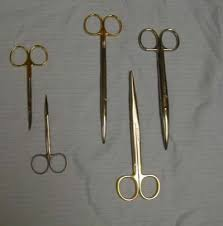fine scissors: (4, 38, 52, 130), (27, 94, 68, 177)
mayo scissors: (112, 68, 161, 203), (134, 24, 182, 149)
metz scissors: (80, 10, 124, 143), (45, 97, 69, 177), (22, 178, 29, 180)
